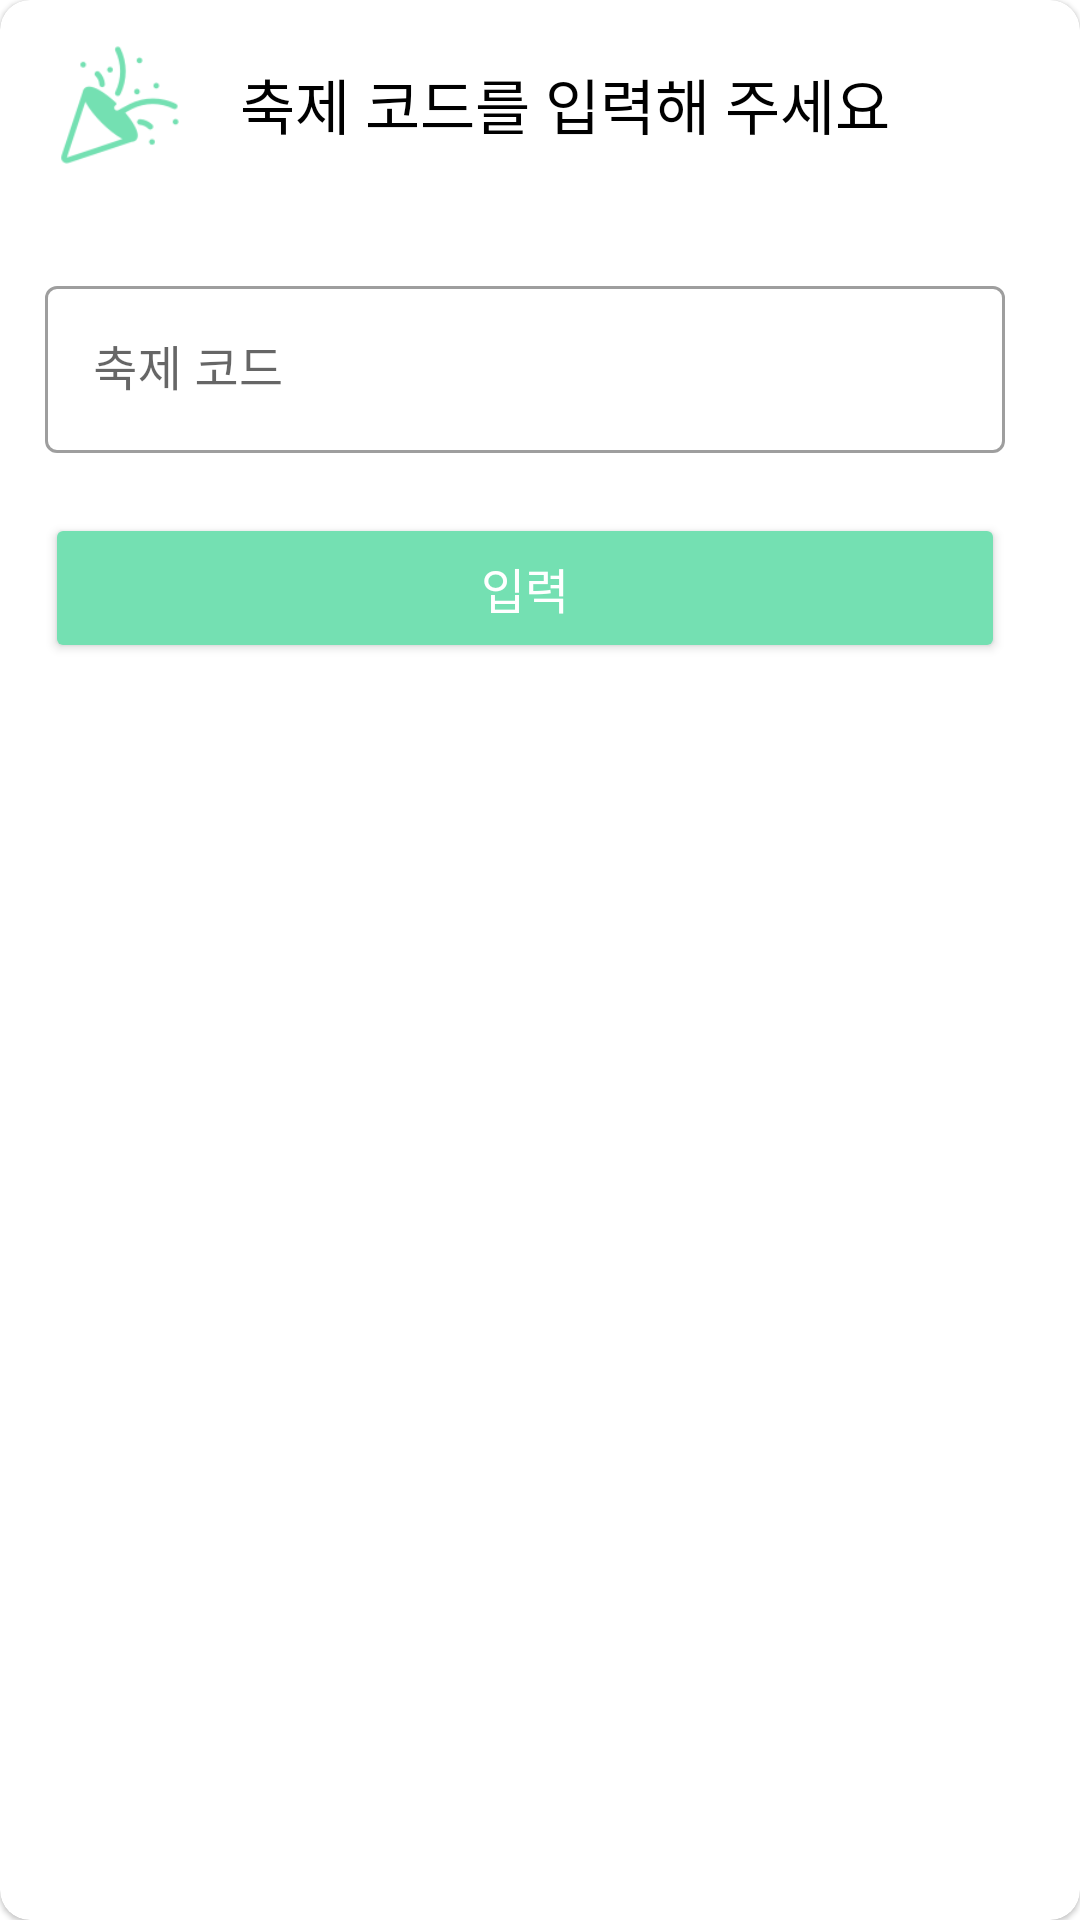

Icon bounding boxes for this 1080px×1920px phone screenshot, format (x1, y1, x2, y2):
festival: (61, 46, 179, 164)
